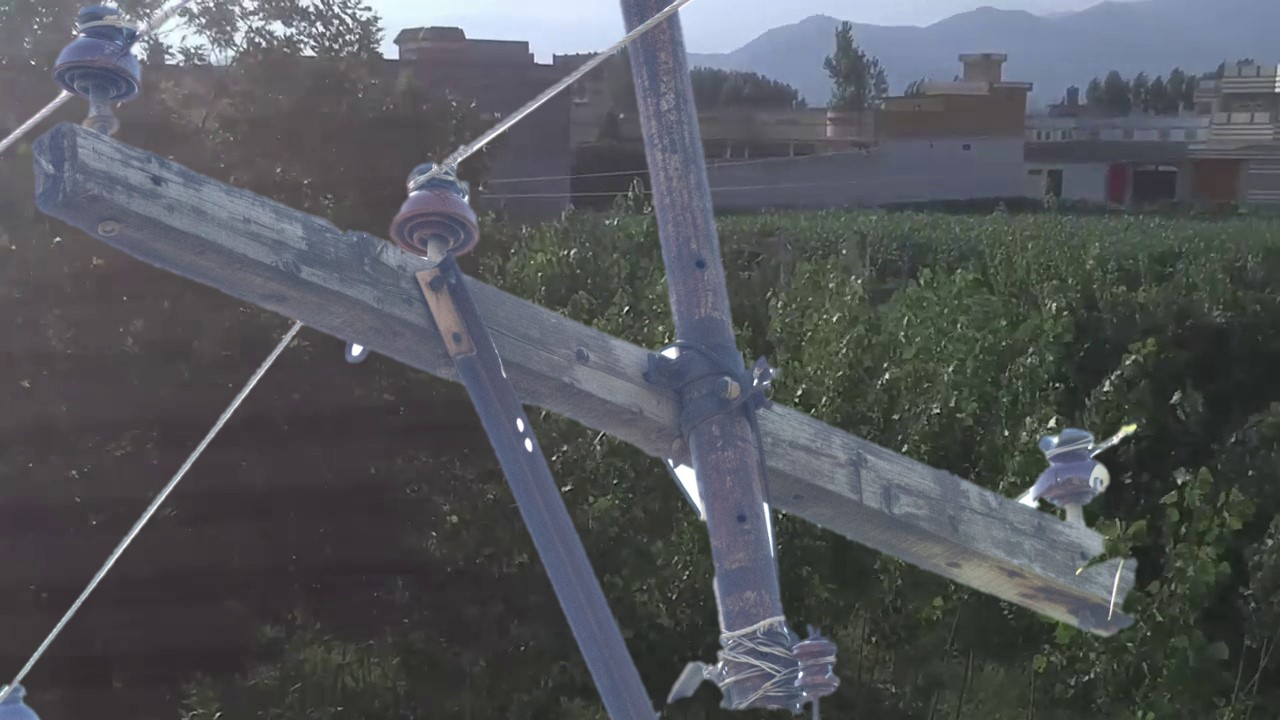defect_pin: (1032, 420, 1117, 511)
insulator_pin: (387, 155, 486, 263), (51, 3, 144, 105)
